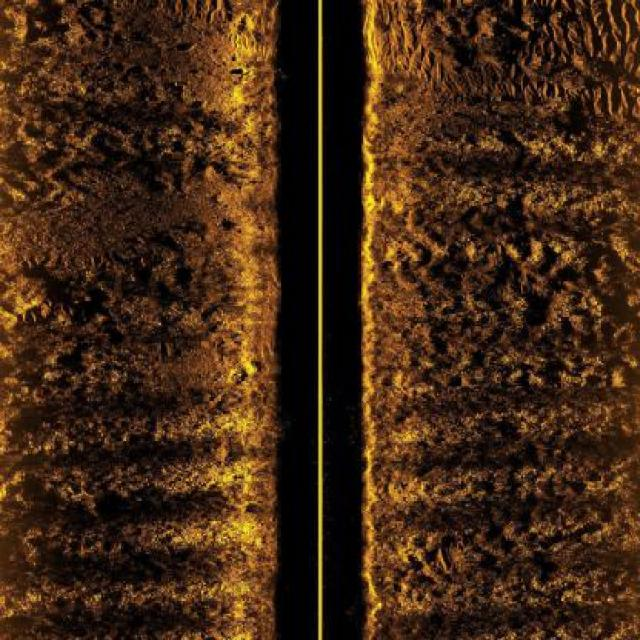mine: (188, 96, 208, 110)
